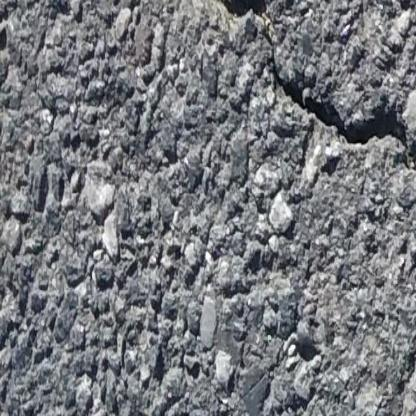Cracks: (137, 0, 416, 187)
